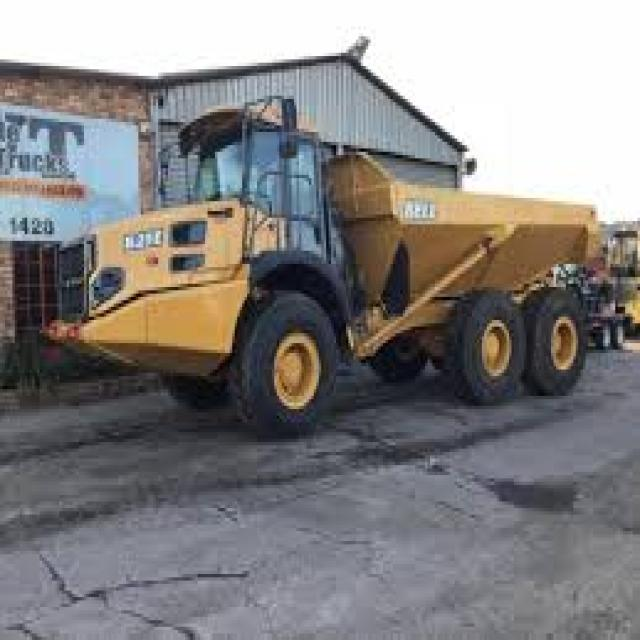dump_truck: (62, 96, 603, 436)
